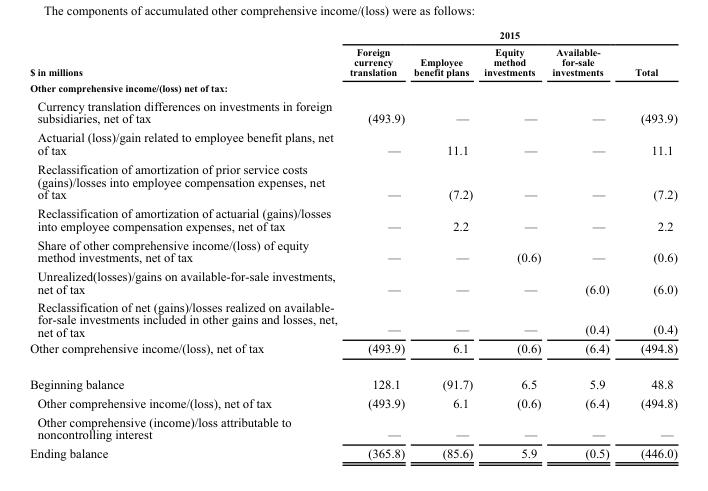table: (29, 29, 676, 459)
table column: (29, 29, 342, 459), (546, 29, 621, 459), (408, 29, 477, 459), (477, 29, 546, 459), (342, 29, 408, 459), (621, 29, 676, 459)
table column header: (29, 29, 676, 79)
table projected row header: (29, 79, 676, 96)
table row: (29, 159, 676, 203), (29, 297, 676, 339), (29, 43, 676, 79), (29, 127, 676, 159), (29, 203, 676, 235), (29, 411, 676, 443), (29, 96, 676, 127), (29, 235, 676, 266), (29, 266, 676, 297), (29, 365, 676, 392), (29, 339, 676, 365), (29, 392, 676, 411), (29, 79, 676, 96), (29, 443, 676, 459), (29, 29, 676, 43)
table spanning cell: (29, 29, 342, 79), (342, 29, 676, 43)
